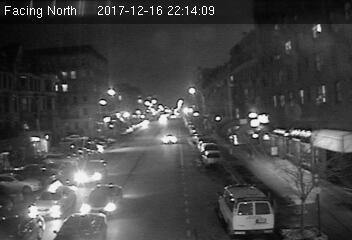car: (29, 179, 76, 221), (80, 183, 124, 217), (74, 159, 110, 186), (203, 150, 221, 166), (161, 133, 178, 145)
police: (215, 182, 275, 234)
